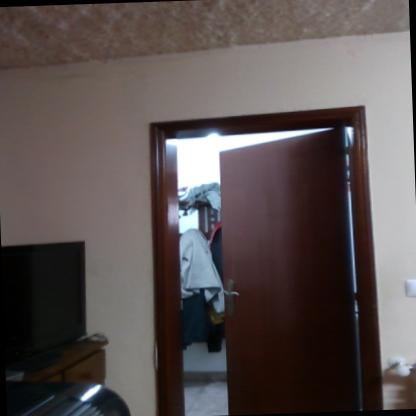semi: (126, 84, 384, 416)
